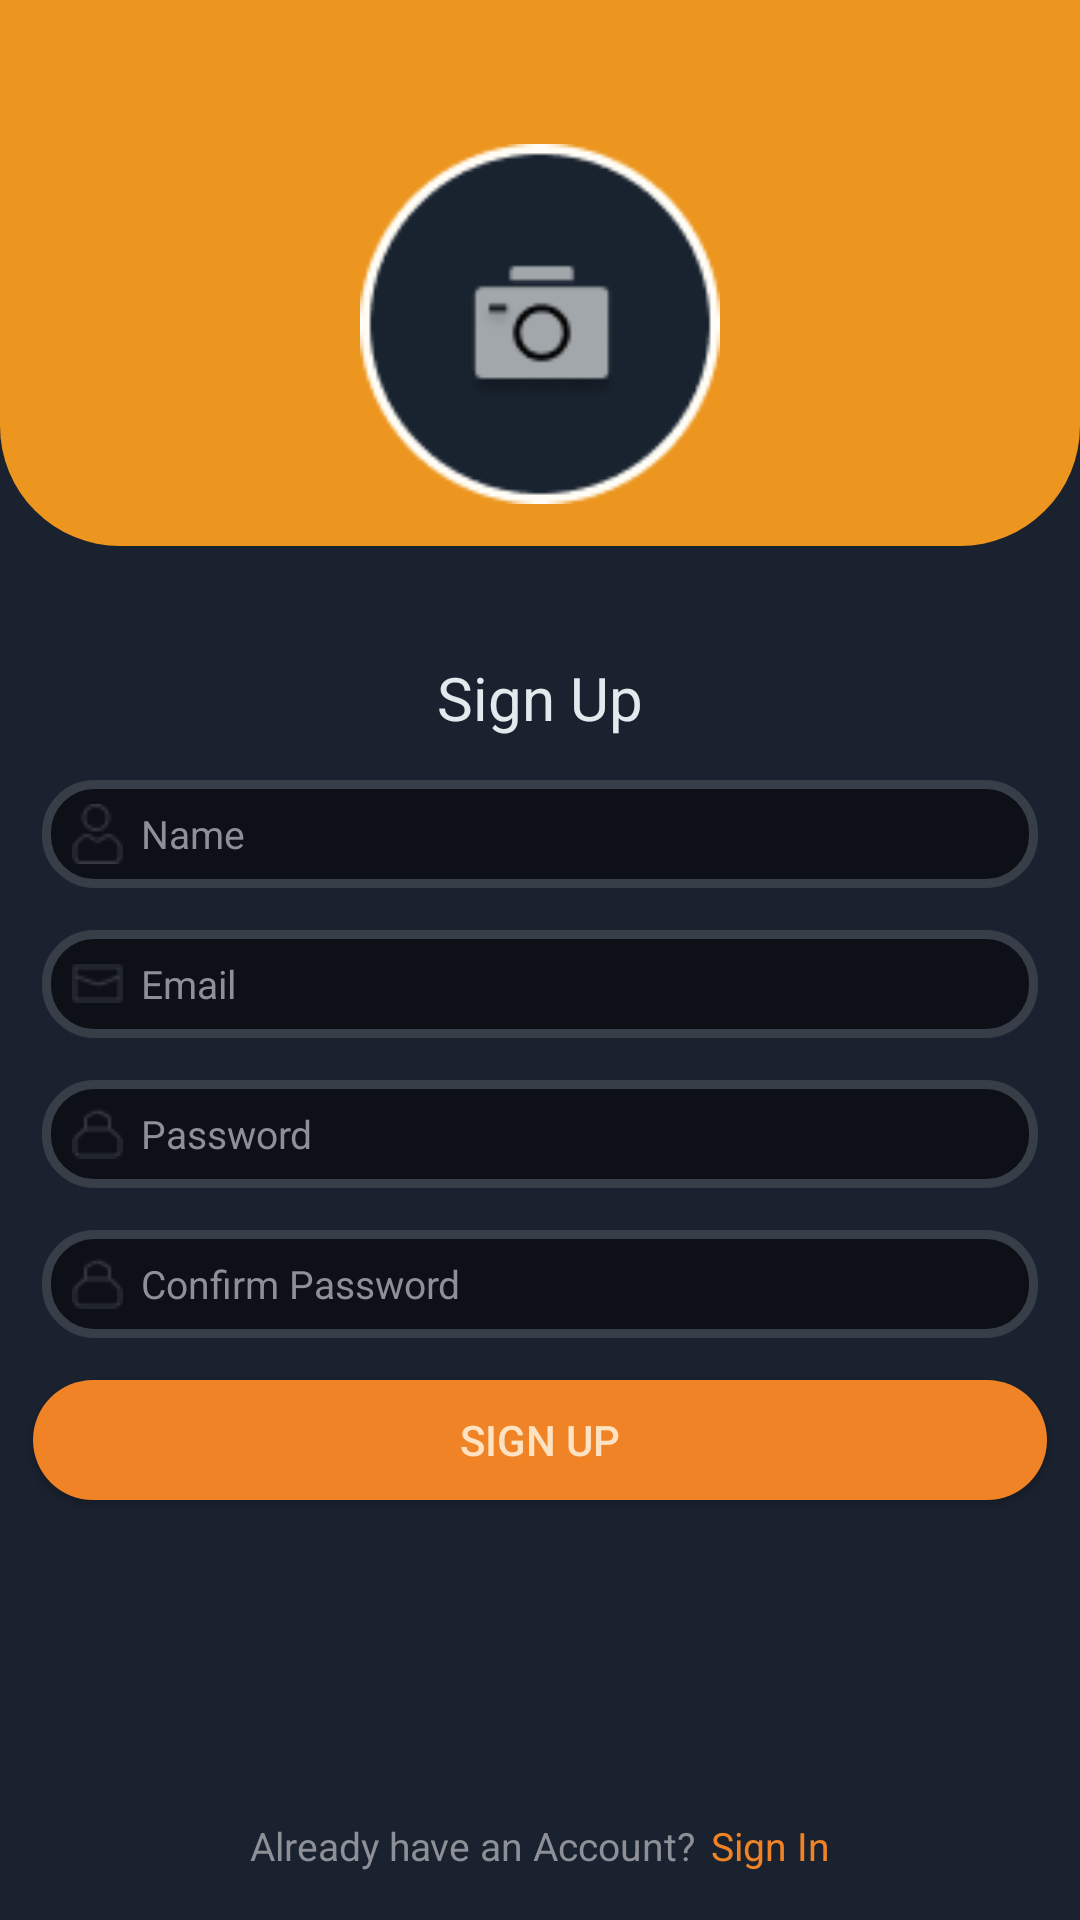

Screen size 1080x1920. Icon name, then its box in pixels as (x1, y1, x2, y2):
user photo: (360, 144, 720, 504)
